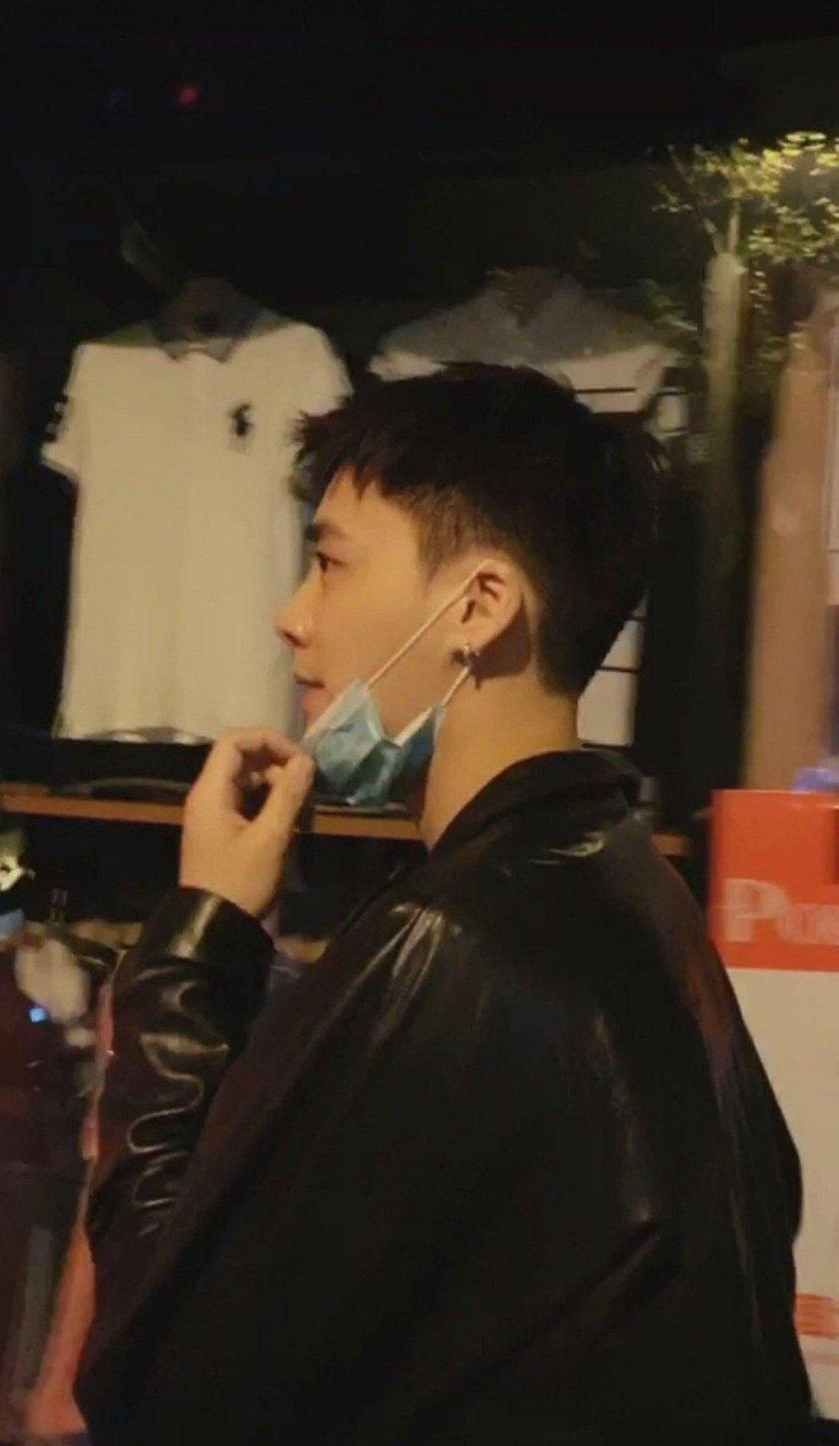WRONG: (282, 499, 427, 795)
